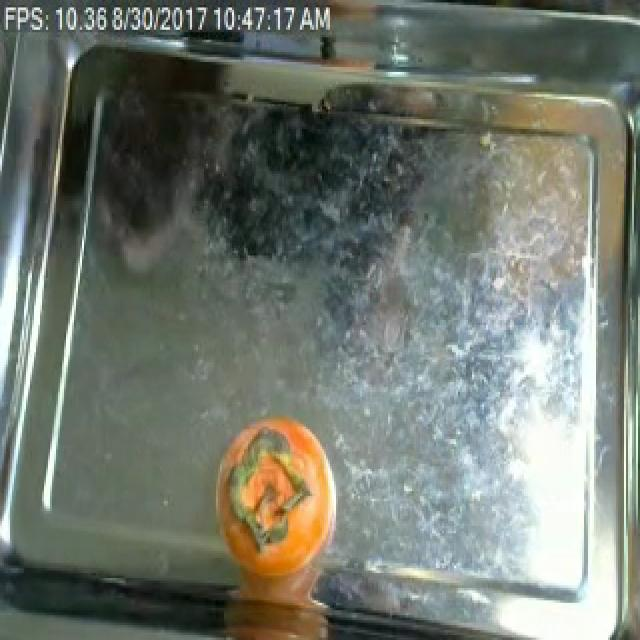Fruit: (206, 404, 348, 640), (304, 0, 388, 32)
